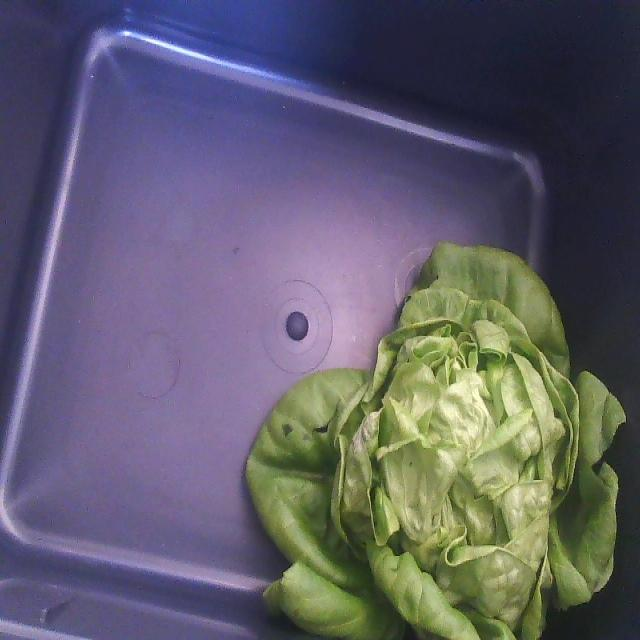lettuce: (246, 244, 624, 639)
